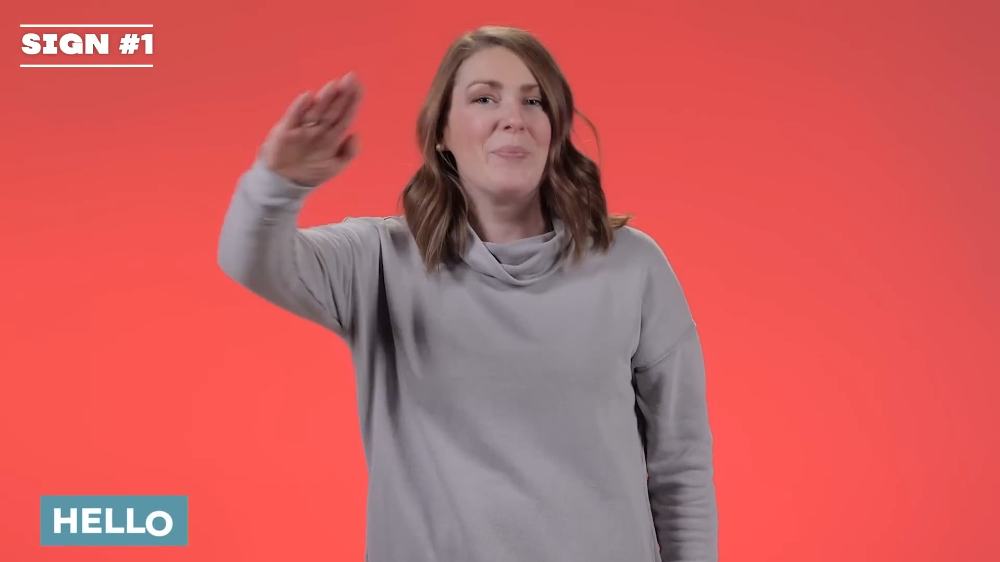hello: (266, 69, 370, 183)
